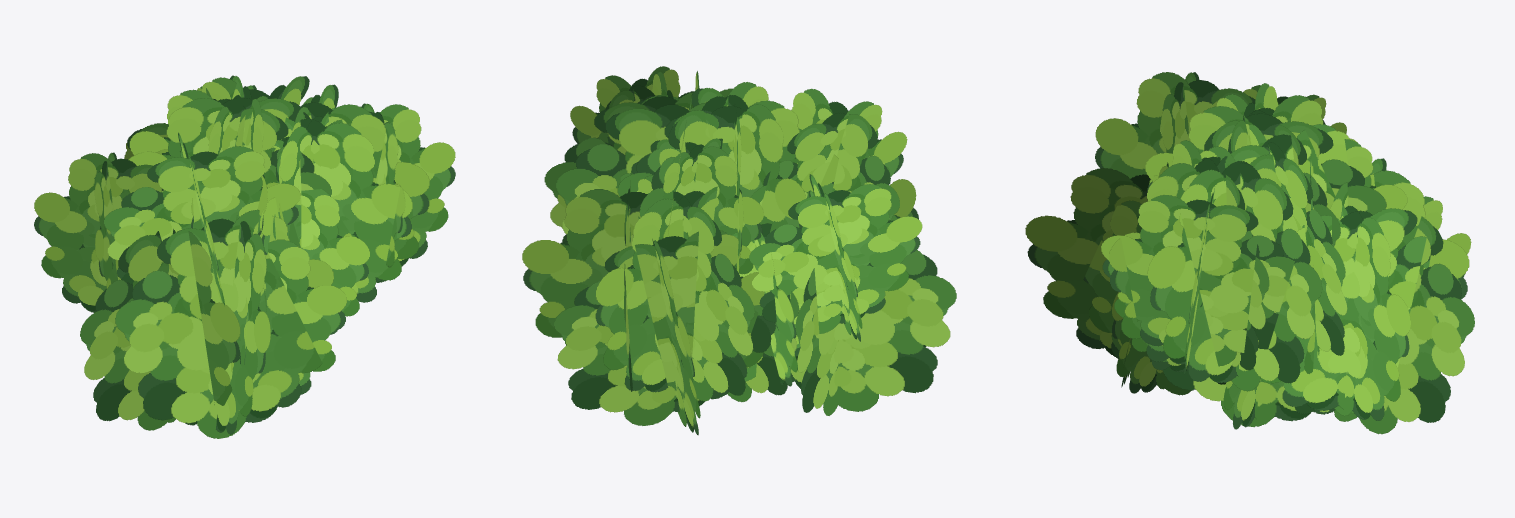
Rendered from anime_shrub.glb.
3 renders of one model, left to right at view 1: azimuth 30°, elevation 25°; view 2: azimuth 150°, elevation 25°; view 3: azimuth 270°, elevation 25°, orthographic. The views are drawn at different scales.
Parts seen in each view (by area): view 1: anime_shrub; view 2: anime_shrub; view 3: anime_shrub.
Boxes of the visible parts, <box> form: anime_shrub: <box>34,75,455,438</box>; anime_shrub: <box>522,66,956,435</box>; anime_shrub: <box>1025,72,1474,434</box>.
Size of the model in its own units: 1.97 by 1.56 by 1.94.
1 material, 1 textured.
